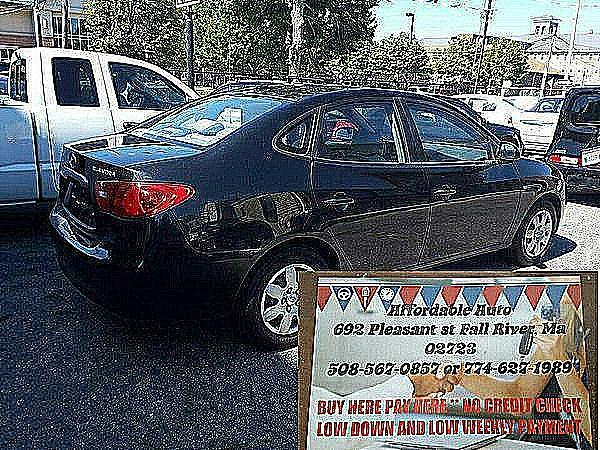Car boot: (51, 131, 203, 246)
Driver-s door - -F-R-: (394, 77, 525, 273)
Fender - -F-R-: (501, 143, 562, 257)
Fender - -R-R-: (190, 97, 326, 260)
Passenger-s door - -R-R-: (294, 74, 431, 291)
Rear bumper: (45, 200, 259, 328)
Rear light - -R-: (94, 177, 194, 223)
Side bumper - -R-: (362, 226, 517, 285)
Side mirror - -R-: (489, 139, 522, 169)
